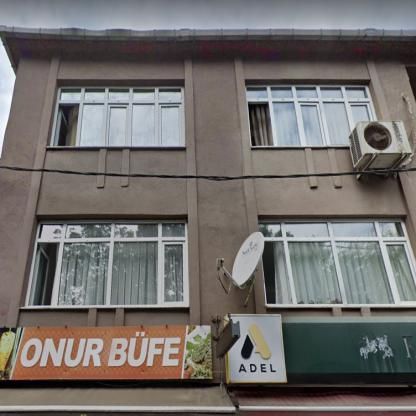window: (27, 222, 185, 306), (261, 221, 415, 303), (50, 88, 183, 146), (246, 86, 368, 144)
